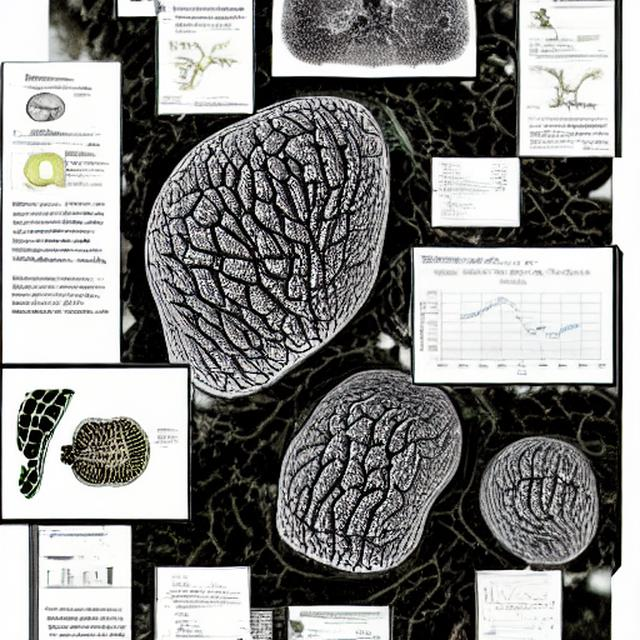Graph: (415, 266, 610, 380), (482, 575, 551, 616)
